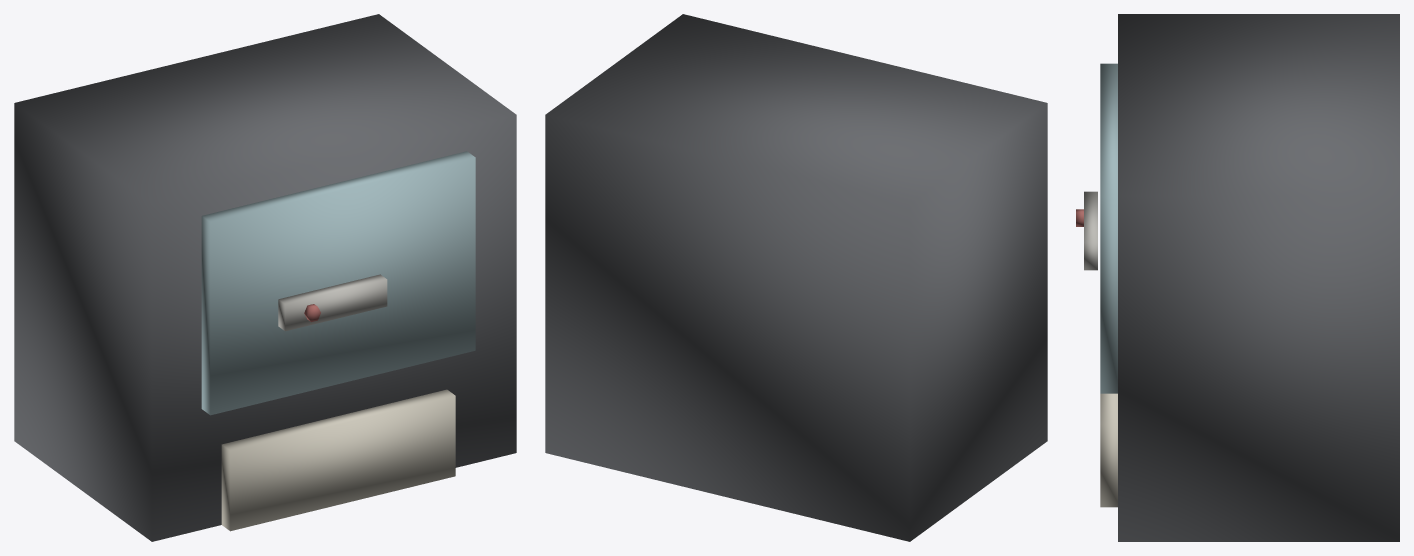
File: flat_monitor__tall.glb
The picture shows the model from 3 angles, left to right: view 1: azimuth 30°, elevation 25°; view 2: azimuth 150°, elevation 25°; view 3: azimuth 270°, elevation 25°; orthographic projection. The views are drawn at different scales.
Visible parts, largest first — view 1: world; view 2: world; view 3: world.
Part boxes in pixels (x1,y1,x2,y2): world: (14, 14, 516, 541); world: (545, 14, 1047, 541); world: (1076, 14, 1399, 541).
Size of the model in its own units: 0.55 by 0.4872 by 0.4135.
